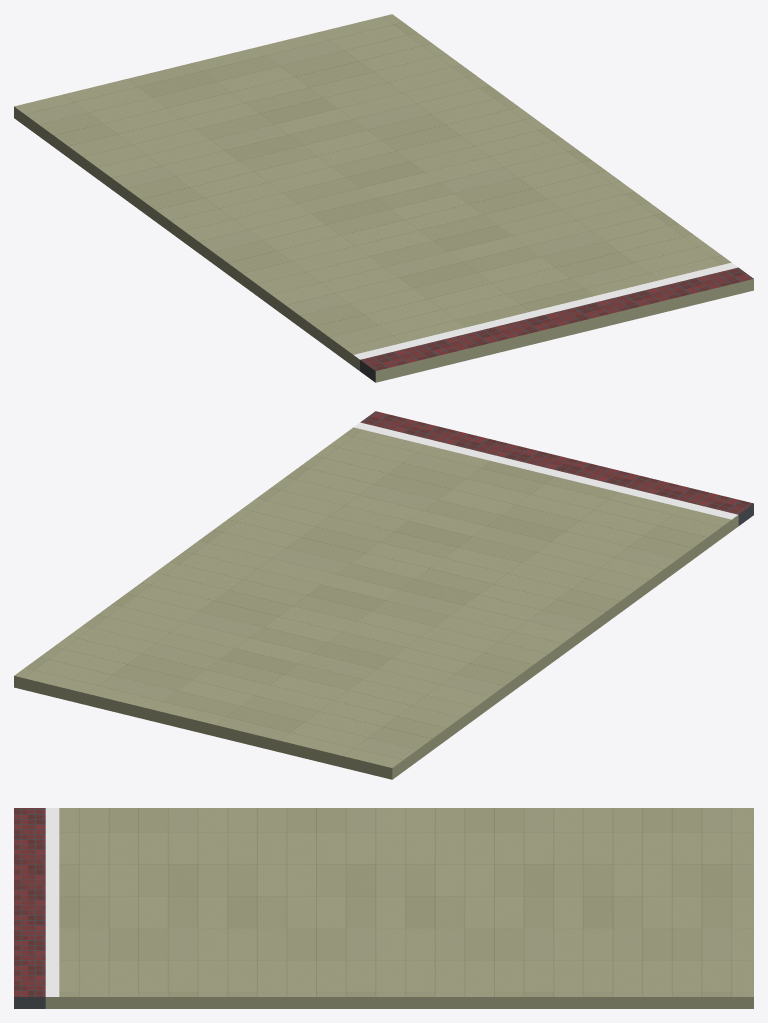
The model's file is piso_base.glb.
3 views of the same model, one above another, from view 1: azimuth 30°, elevation 25°; view 2: azimuth 150°, elevation 25°; view 3: azimuth 270°, elevation 25° (orthographic). The views are drawn at different scales.
Visible parts, largest first — view 1: piso base.001; view 2: piso base.001; view 3: piso base.001.
Part boxes in pixels (bbox=[...]): piso base.001: bbox=[14, 14, 753, 382]; piso base.001: bbox=[14, 411, 753, 779]; piso base.001: bbox=[14, 808, 753, 1008].
Size of the model in its own units: 58.61 by 1.73 by 97.02.
3 materials, 2 textured.
